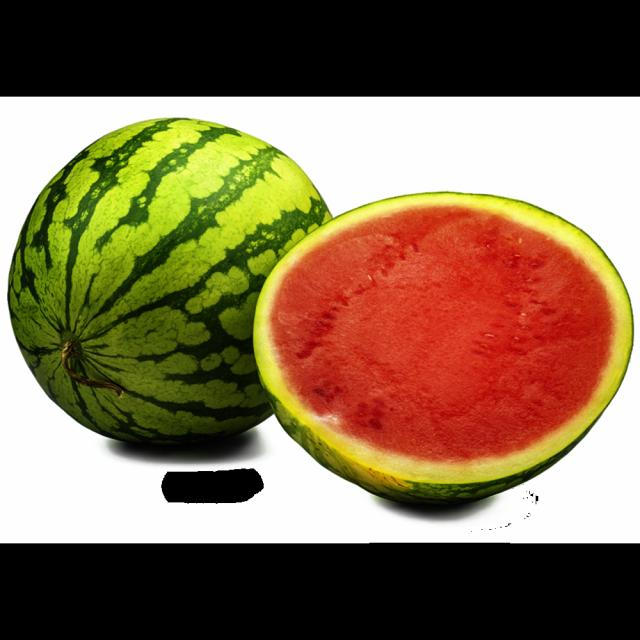watermelon: (254, 179, 640, 529), (6, 108, 340, 458)
